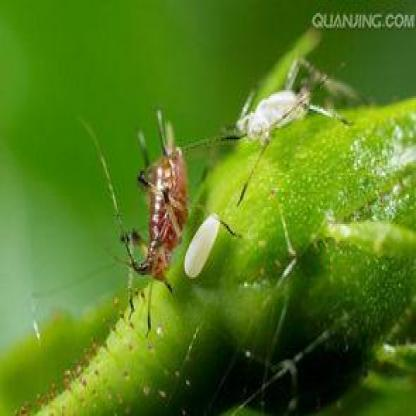aphid: (86, 108, 200, 306), (216, 51, 352, 159)
